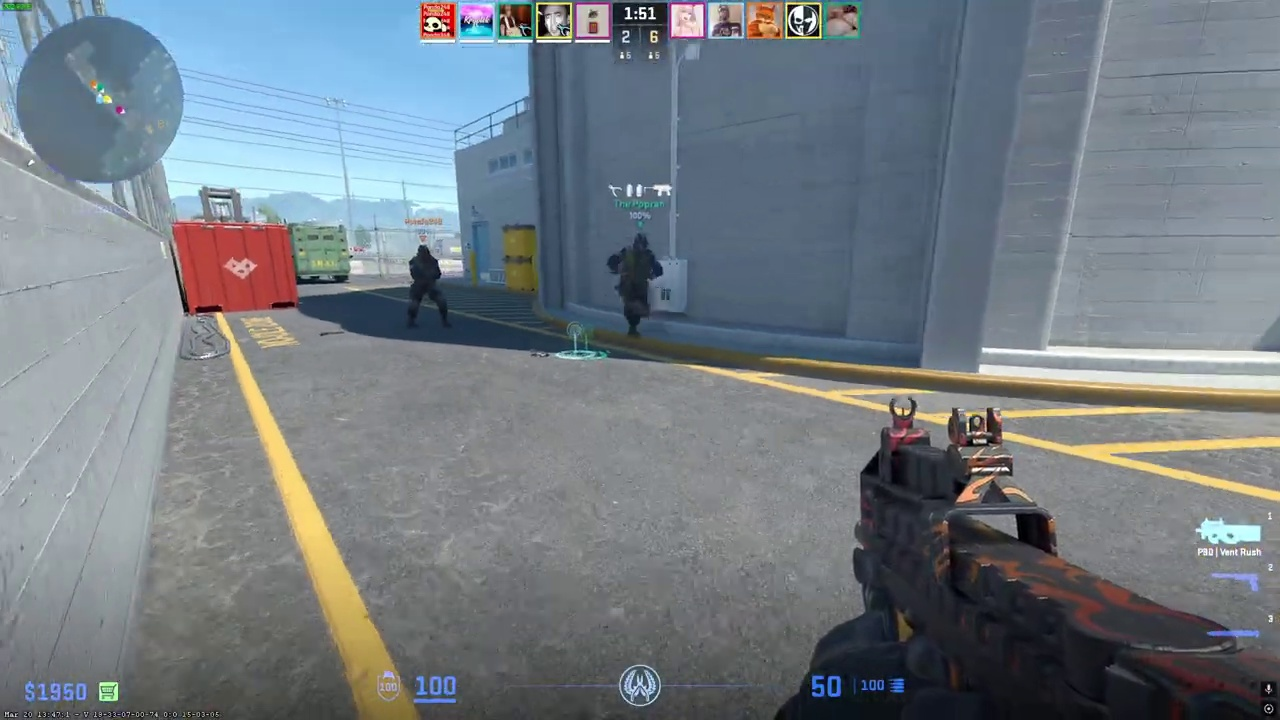CT: (614, 232, 659, 338), (406, 245, 450, 330)
